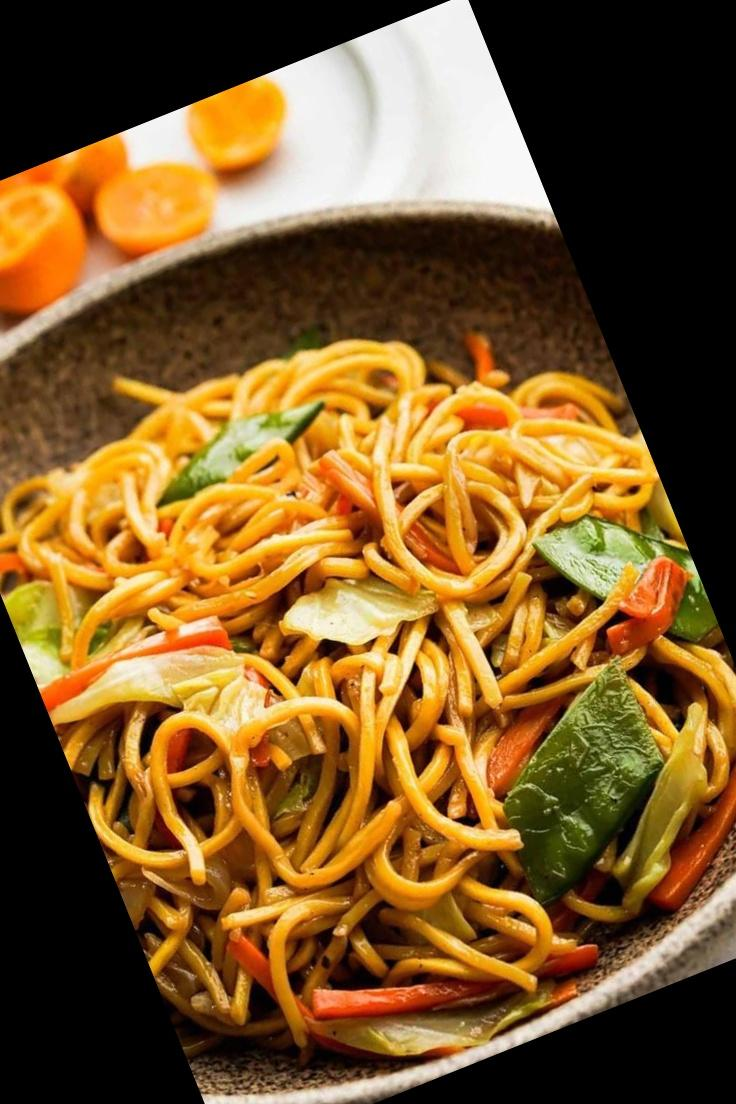pancit bihon: (0, 339, 735, 1056)
